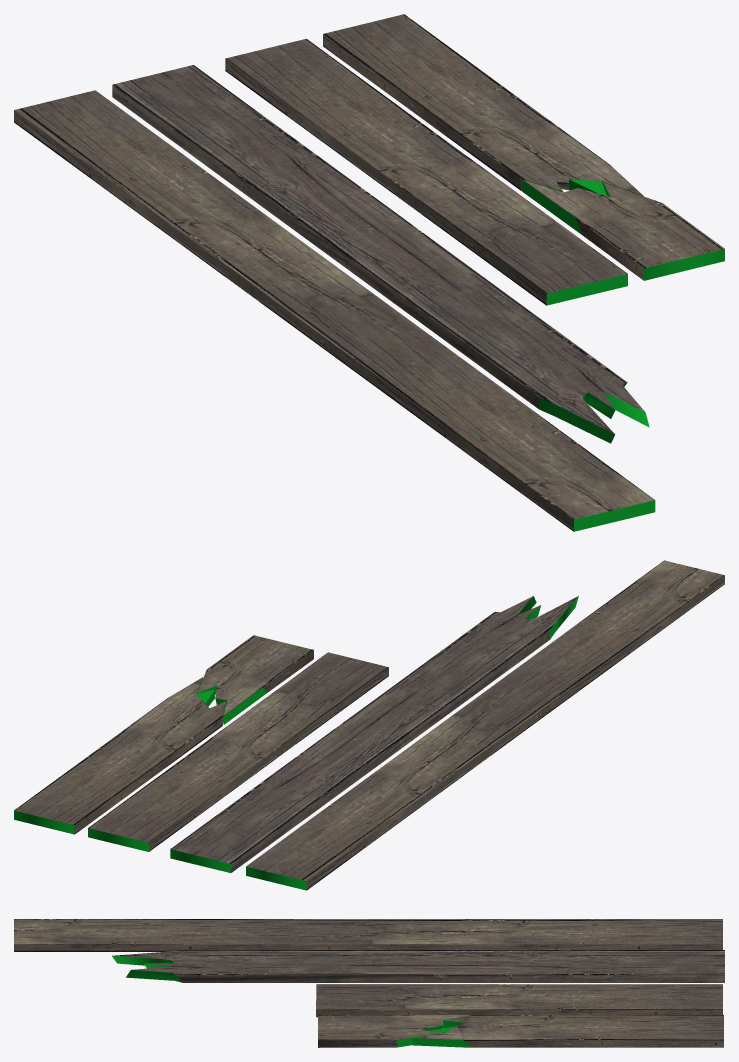
Rendered from boards.FBX.
3 renders of one model, top to bottom at view 1: azimuth 30°, elevation 25°; view 2: azimuth 150°, elevation 25°; view 3: azimuth 270°, elevation 25°, orthographic. The views are drawn at different scales.
Visible parts, largest first — view 1: board02, board01, board04, board03, board05; view 2: board02, board01, board04, board03, board05; view 3: board02, board01, board04, board03, board05.
Boxes of the visible parts, x1,y1,x2,y2 form: board02: (14, 90, 655, 531); board01: (112, 65, 649, 443); board04: (225, 38, 627, 305); board03: (323, 14, 643, 196); board05: (522, 179, 724, 280); board02: (246, 560, 724, 890); board01: (170, 596, 578, 872); board04: (88, 652, 388, 851); board03: (14, 677, 226, 834); board05: (197, 635, 313, 724); board02: (14, 919, 722, 951); board01: (112, 950, 724, 982); board04: (316, 984, 722, 1017); board03: (412, 1015, 723, 1047); board05: (318, 1015, 471, 1047).
Size of the model in its own units: 10.83 by 26.93 by 0.3927.
